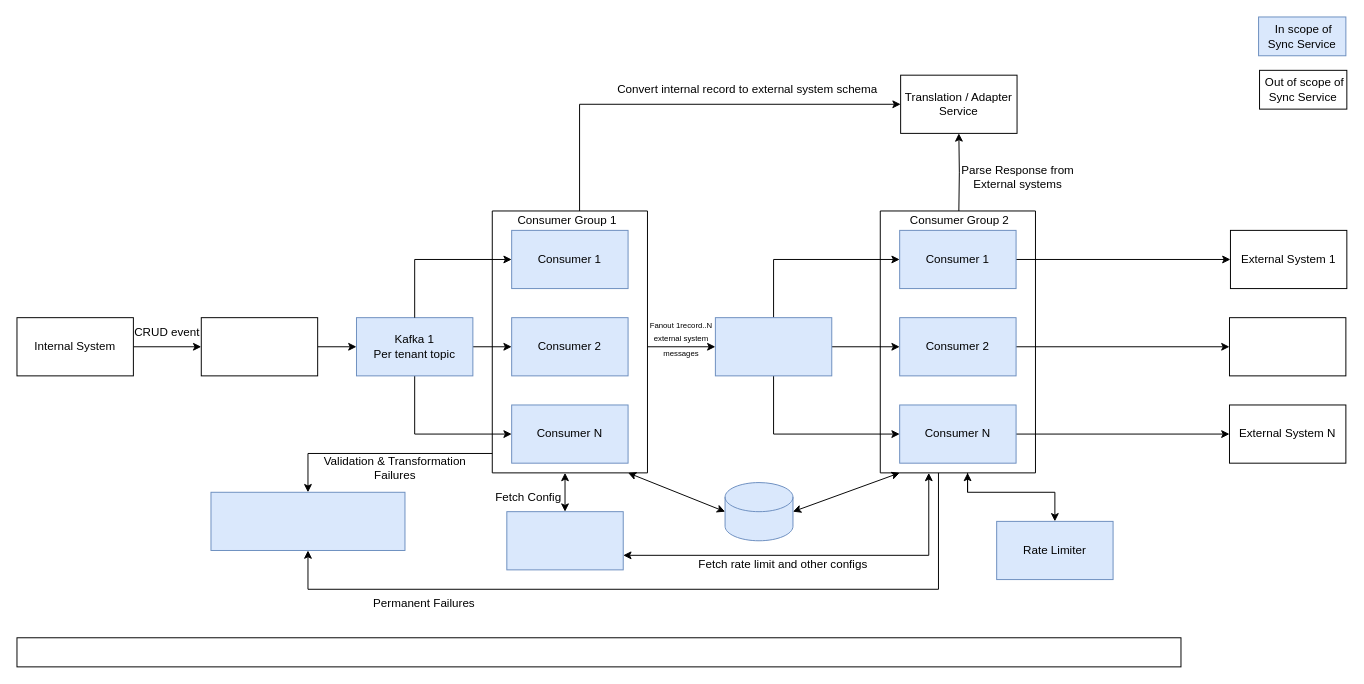
The diagram is 1364 pixels wide and 684 high, and some of its shapes have lost their labels. The shapes that lost their labels are listed below. From the top down, each one's box as (x1, y1, x2, y2) in pixels, then its label:
(200, 317, 318, 376): Trigger/ Rule based filtering
(714, 317, 832, 376): Kafka 2 Per external system topic
(1229, 317, 1346, 376): External System 2
(210, 491, 405, 550): Dead Letter Queue
(724, 482, 793, 541): Sync State DB
(506, 511, 623, 570): Config Service
(16, 637, 1181, 667): Observability
